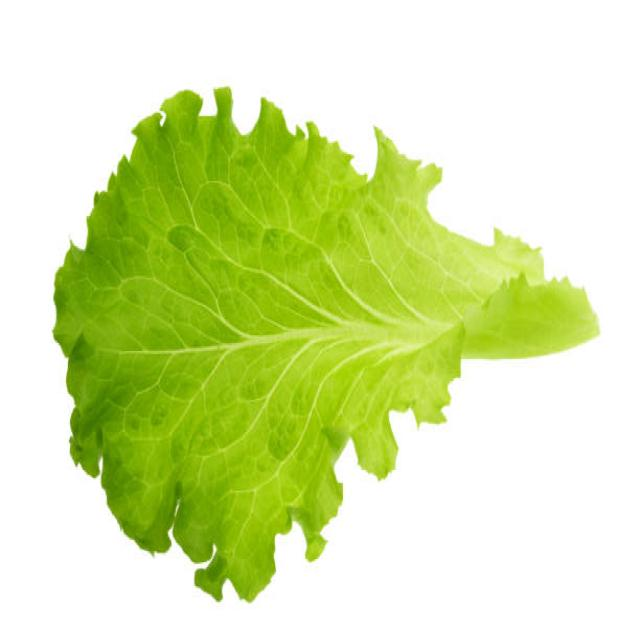lettuce: (50, 84, 600, 604)
